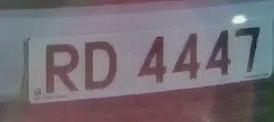4: (133, 30, 173, 89), (202, 23, 238, 86), (169, 26, 205, 88)
7: (234, 22, 268, 80)
D: (79, 34, 124, 95)
R: (38, 39, 84, 97)
